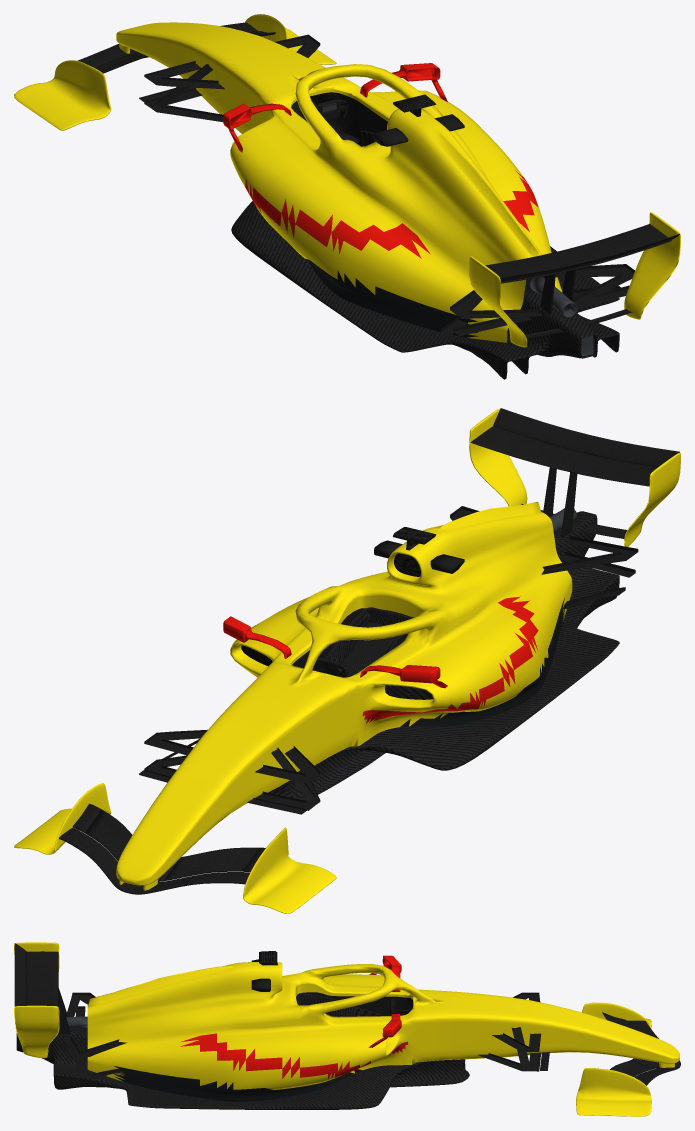
The model's file is f1_2026_2008_chassis.glb.
3 renders of one model, top to bottom at view 1: azimuth 30°, elevation 25°; view 2: azimuth 150°, elevation 25°; view 3: azimuth 270°, elevation 25°, orthographic. The views are drawn at different scales.
Parts seen in each view (by area): view 1: GEO_CHASSIS_BODY, GEO_CHASSIS_FLOOR, GEO_CHASSIS_ENDPLATE, GEO_CHASSIS_REAR_WING, GEO_CHASSIS_REAR_SUSPENSION, GEO_CHASSIS_AEROPART2, GEO_CHASSIS_FRONT_SUSPENSION, GEO_CHASSIS_MIRRORS, GEO_CHASSIS_INTERIOR, GEO_CHASSIS_FRONTWING, GEO_CHASSIS_ACTIVEREAR, GEO_CHASSIS_LATERALCAM (+2 smaller); view 2: GEO_CHASSIS_BODY, GEO_CHASSIS_FLOOR, GEO_CHASSIS_ENDPLATE, GEO_CHASSIS_FRONT_SUSPENSION, GEO_CHASSIS_AEROPART2, GEO_CHASSIS_REAR_WING, GEO_CHASSIS_ACTIVEREAR, GEO_CHASSIS_FRONTWING, GEO_CHASSIS_ACTIVEFRONT, GEO_CHASSIS_REAR_SUSPENSION, GEO_CHASSIS_SEAT, GEO_CHASSIS_MIRRORS (+3 smaller); view 3: GEO_CHASSIS_BODY, GEO_CHASSIS_FLOOR, GEO_CHASSIS_ENDPLATE, GEO_CHASSIS_REAR_WING, GEO_CHASSIS_AEROPART2, GEO_CHASSIS_FRONT_SUSPENSION, GEO_CHASSIS_REAR_SUSPENSION, GEO_CHASSIS_FRONTWING, GEO_CHASSIS_INTERIOR, GEO_CHASSIS_ACTIVEREAR, GEO_CHASSIS_SEAT, GEO_CHASSIS_MIRRORS (+2 smaller).
Boxes of the visible parts, x1,y1,x2,y2 form: GEO_CHASSIS_BODY: (116, 22, 562, 342); GEO_CHASSIS_FLOOR: (231, 201, 619, 379); GEO_CHASSIS_ENDPLATE: (14, 14, 336, 130); GEO_CHASSIS_REAR_WING: (469, 212, 680, 347); GEO_CHASSIS_REAR_SUSPENSION: (440, 264, 634, 337); GEO_CHASSIS_AEROPART2: (485, 224, 671, 283); GEO_CHASSIS_FRONT_SUSPENSION: (139, 34, 320, 121); GEO_CHASSIS_MIRRORS: (223, 63, 447, 152); GEO_CHASSIS_INTERIOR: (291, 92, 387, 144); GEO_CHASSIS_FRONTWING: (77, 22, 275, 67); GEO_CHASSIS_ACTIVEREAR: (500, 234, 679, 281); GEO_CHASSIS_LATERALCAM: (374, 114, 464, 146); GEO_CHASSIS_BODY: (116, 502, 572, 890); GEO_CHASSIS_FLOOR: (268, 511, 619, 800); GEO_CHASSIS_ENDPLATE: (14, 783, 336, 913); GEO_CHASSIS_FRONT_SUSPENSION: (139, 729, 320, 814); GEO_CHASSIS_AEROPART2: (470, 426, 657, 486); GEO_CHASSIS_REAR_WING: (469, 408, 680, 546); GEO_CHASSIS_ACTIVEREAR: (493, 408, 679, 467); GEO_CHASSIS_FRONTWING: (59, 803, 265, 894); GEO_CHASSIS_ACTIVEFRONT: (85, 809, 258, 881); GEO_CHASSIS_REAR_SUSPENSION: (450, 506, 638, 609); GEO_CHASSIS_SEAT: (315, 607, 414, 677); GEO_CHASSIS_MIRRORS: (223, 616, 447, 688); GEO_CHASSIS_BODY: (87, 962, 679, 1101); GEO_CHASSIS_FLOOR: (16, 1028, 469, 1109); GEO_CHASSIS_ENDPLATE: (576, 1002, 651, 1116); GEO_CHASSIS_REAR_WING: (14, 942, 59, 1058); GEO_CHASSIS_AEROPART2: (26, 951, 58, 1006); GEO_CHASSIS_FRONT_SUSPENSION: (478, 992, 549, 1071); GEO_CHASSIS_REAR_SUSPENSION: (62, 992, 128, 1077); GEO_CHASSIS_FRONTWING: (602, 1012, 680, 1085); GEO_CHASSIS_INTERIOR: (296, 992, 413, 1015); GEO_CHASSIS_ACTIVEREAR: (14, 943, 26, 1006); GEO_CHASSIS_SEAT: (298, 993, 380, 1016); GEO_CHASSIS_MIRRORS: (368, 955, 401, 1047).
Bounding box in the file's own units: 1.65 × 0.9541 × 4.78.
Materials: 5 (1 with a texture image).
